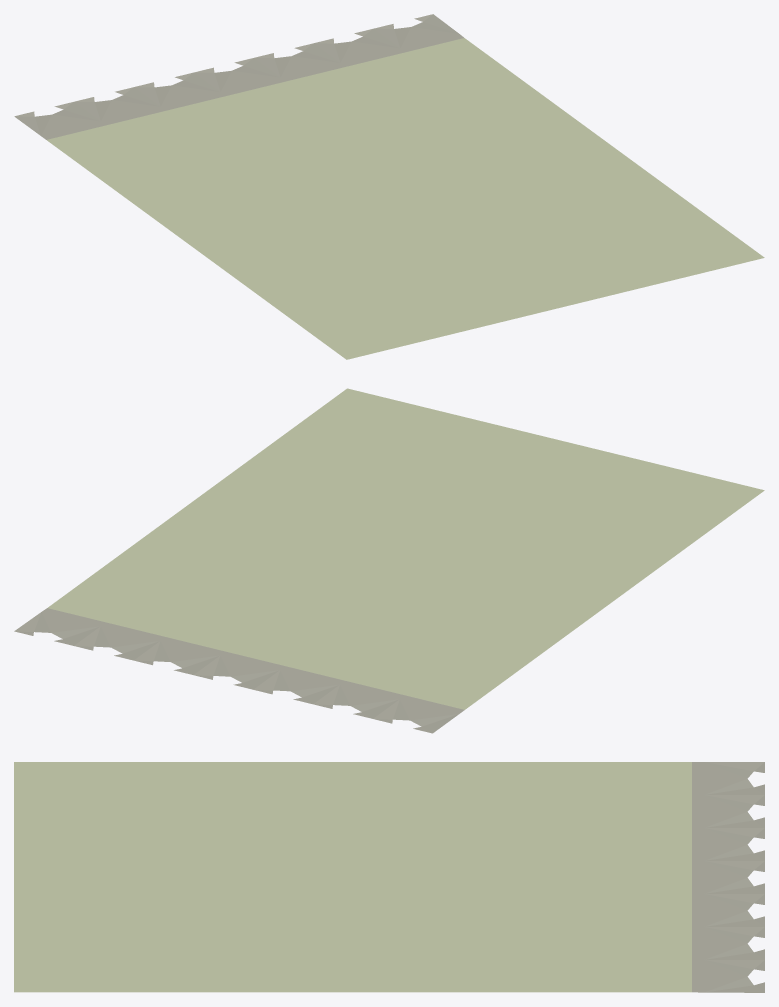
File: StickerSheet01.fbx
3 views of the same model, one above another, from view 1: azimuth 30°, elevation 25°; view 2: azimuth 150°, elevation 25°; view 3: azimuth 270°, elevation 25° (orthographic). The views are drawn at different scales.
Parts seen in each view (by area): view 1: Mesh_StickerSheet; view 2: Mesh_StickerSheet; view 3: Mesh_StickerSheet.
Part boxes in pixels (left/top/right/bottom): Mesh_StickerSheet: left=14, top=14, right=764, bottom=359; Mesh_StickerSheet: left=14, top=388, right=764, bottom=733; Mesh_StickerSheet: left=14, top=762, right=764, bottom=992.
Size of the model in its own units: 5.38 by 7.39 by 0.00732.
